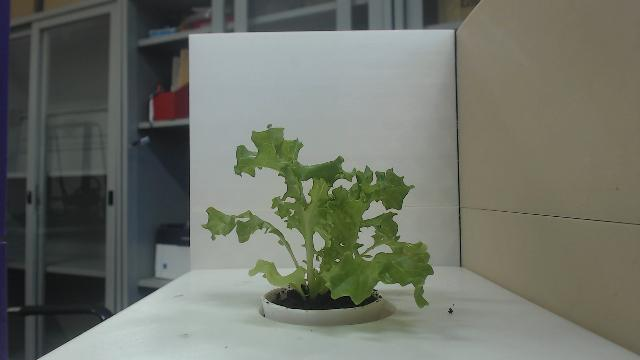Vegetative Stage: (200, 122, 436, 310)
